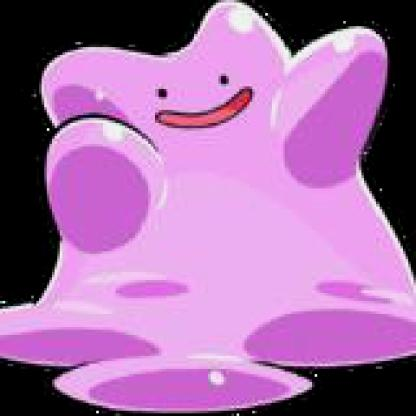Ditto: (2, 23, 415, 381)
